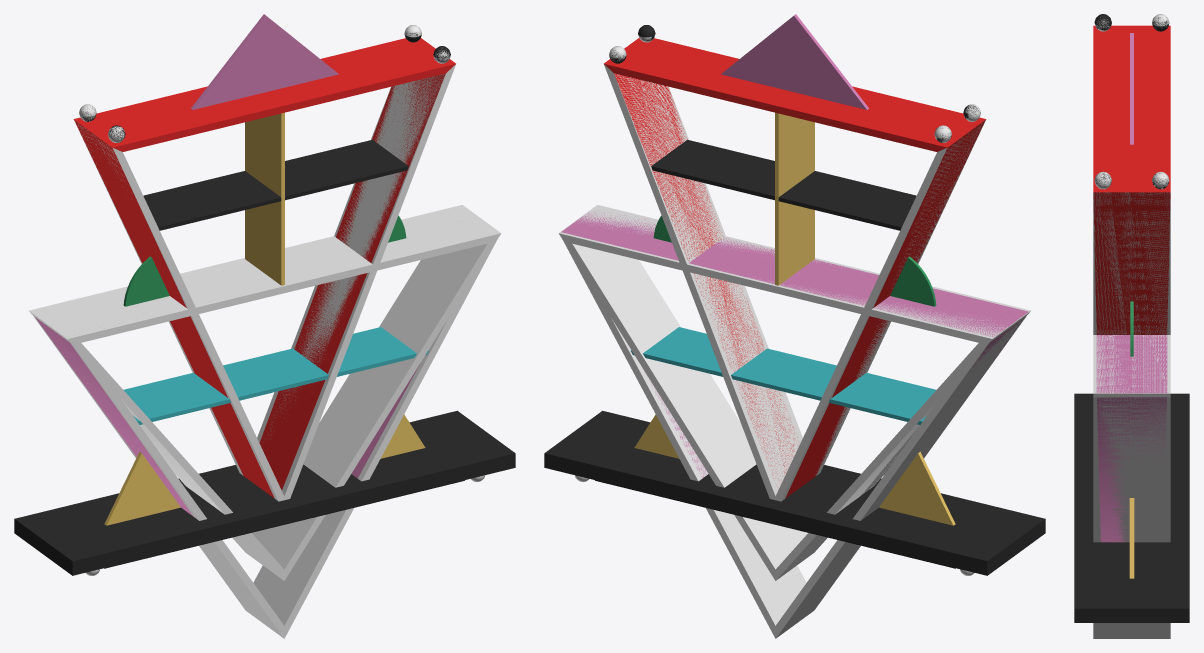
The model's file is Prisma_Liam.glb.
3 views of the same model, side by side, from view 1: azimuth 30°, elevation 25°; view 2: azimuth 150°, elevation 25°; view 3: azimuth 270°, elevation 25° (orthographic).
Parts seen in each view (by area): view 1: Sweep, Sweep_2_3, Cube_3, Sweep_2_2, Sweep_1, Cube_1, Cube_2, Sweep_1_2, Cube_4, Cube, Extrude, Sweep_2 (+1 smaller); view 2: Sweep, Sweep_2_2, Cube_3, Sweep_2_3, Sweep_1, Sweep_1_2, Sweep_2, Cube_1, Cube_2, Cube_4, Cube, Extrude (+1 smaller); view 3: Sweep, Cube_3, Sweep_2_3, Sweep_2, Sweep_2_2, Extrude, Cube_4, Sweep_1, Sphere_1_2, Sphere_3_2, Sphere_0_3, Cylinder (+1 smaller).
Boxes of the visible parts, x1,y1,x2,y2 form: Sweep: (73, 38, 455, 498); Sweep_2_3: (29, 205, 500, 638); Cube_3: (14, 410, 515, 575); Sweep_2_2: (75, 64, 455, 501); Sweep_1: (29, 205, 501, 513); Cube_1: (143, 139, 408, 230); Cube_2: (123, 327, 429, 424); Sweep_1_2: (35, 234, 500, 580); Cube_4: (191, 14, 338, 109); Cube: (245, 112, 284, 285); Extrude: (104, 414, 425, 525); Sweep_2: (35, 313, 420, 515); Sweep: (604, 38, 986, 498); Sweep_2_2: (604, 64, 984, 501); Cube_3: (544, 410, 1045, 575); Sweep_2_3: (559, 205, 1030, 638); Sweep_1: (558, 205, 1030, 514); Sweep_1_2: (560, 235, 1027, 580); Sweep_2: (561, 210, 1028, 477); Cube_1: (651, 139, 916, 230); Cube_2: (630, 327, 936, 424); Cube_4: (721, 14, 868, 109); Cube: (775, 112, 814, 285); Extrude: (634, 414, 955, 525); Sweep: (1093, 25, 1170, 334); Cube_3: (1074, 393, 1189, 622); Sweep_2_3: (1093, 335, 1170, 638); Sweep_2: (1096, 335, 1167, 542); Sweep_2_2: (1093, 192, 1170, 334); Extrude: (1129, 498, 1134, 578); Cube_4: (1130, 33, 1133, 144); Sweep_1: (1093, 393, 1170, 397); Sphere_1_2: (1094, 171, 1111, 189); Sphere_3_2: (1152, 171, 1169, 189); Sphere_0_3: (1094, 14, 1111, 30); Cylinder: (1130, 301, 1133, 356).
Size of the model in its own units: 4.6 by 6.05 by 1.05.
